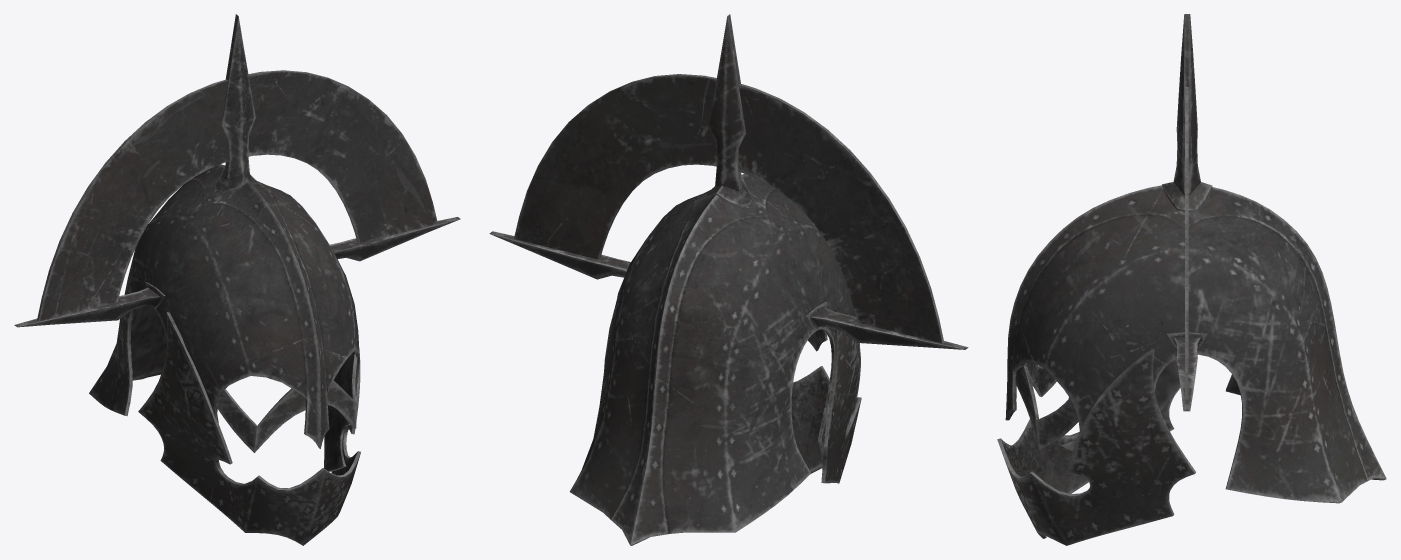
File: sk_uruk_mordor_helmet_elite_a1.fbx
3 renders of one model, left to right at view 1: azimuth 30°, elevation 25°; view 2: azimuth 150°, elevation 25°; view 3: azimuth 270°, elevation 25°, orthographic. The views are drawn at different scales.
Parts seen in each view (by area): view 1: sk_uruk_mordor_helmet_elite_a1; view 2: sk_uruk_mordor_helmet_elite_a1; view 3: sk_uruk_mordor_helmet_elite_a1.
Part boxes in pixels (bbox=[...]): sk_uruk_mordor_helmet_elite_a1: bbox=[14, 14, 460, 545]; sk_uruk_mordor_helmet_elite_a1: bbox=[489, 14, 968, 545]; sk_uruk_mordor_helmet_elite_a1: bbox=[997, 14, 1386, 545].
Size of the model in its own units: 0.4613 by 0.3225 by 0.4795.
Materials: 1 (1 with a texture image).
